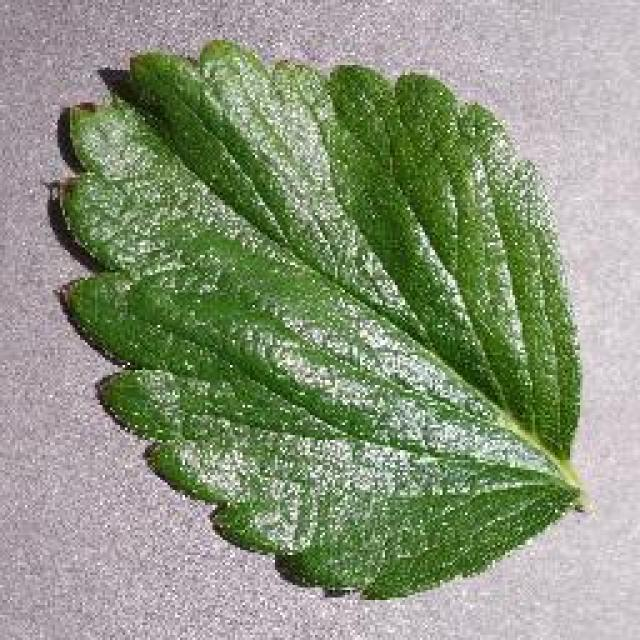Strawberry___healthy: (35, 13, 607, 625)
